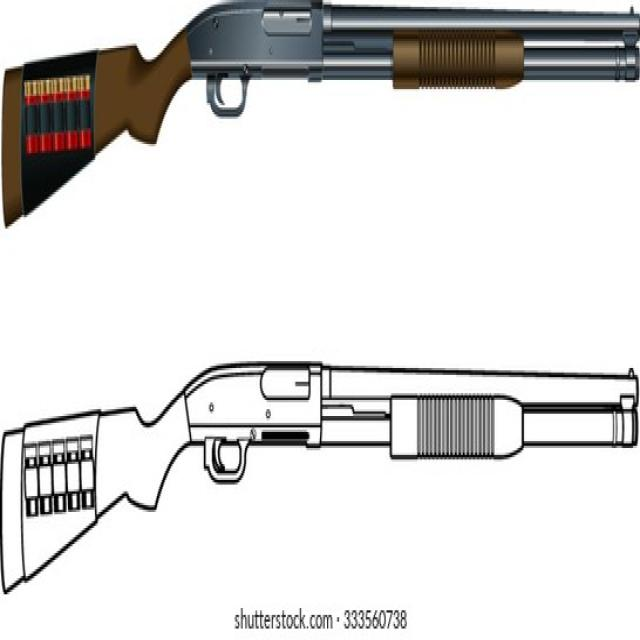ShotGun: (0, 359, 640, 594), (1, 0, 640, 226)
